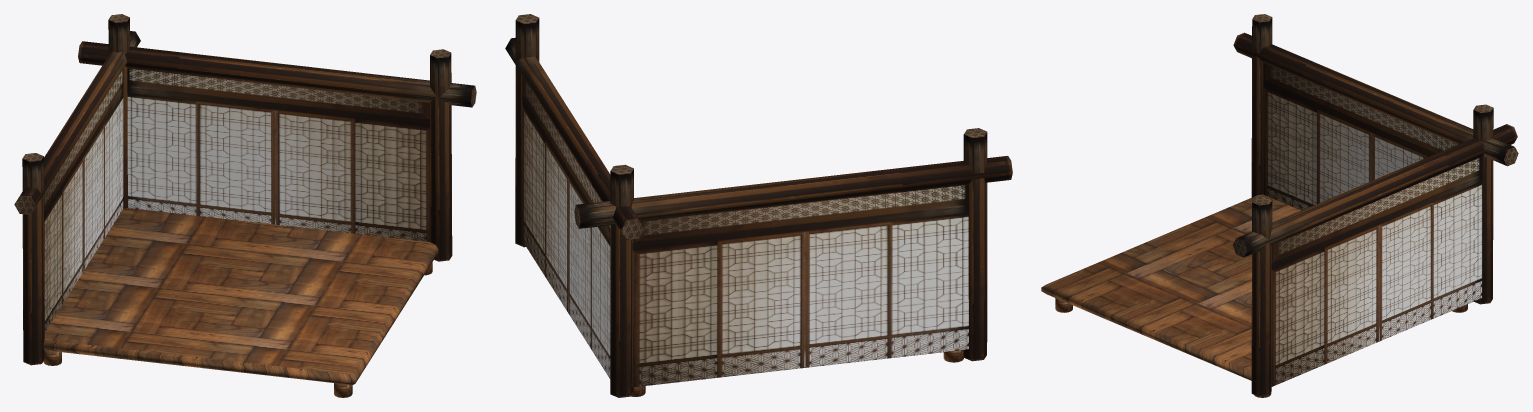
File: ARHouse.fbx
3 renders of one model, left to right at view 1: azimuth 30°, elevation 25°; view 2: azimuth 150°, elevation 25°; view 3: azimuth 270°, elevation 25°, orthographic. The views are drawn at different scales.
Visible parts, largest first — view 1: Cube; view 2: Cube; view 3: Cube.
Part boxes in pixels (x1,y1,x2,y2): Cube: (14, 14, 476, 397); Cube: (505, 14, 1012, 397); Cube: (1041, 14, 1518, 397).
Size of the model in its own units: 228 by 101 by 217.
